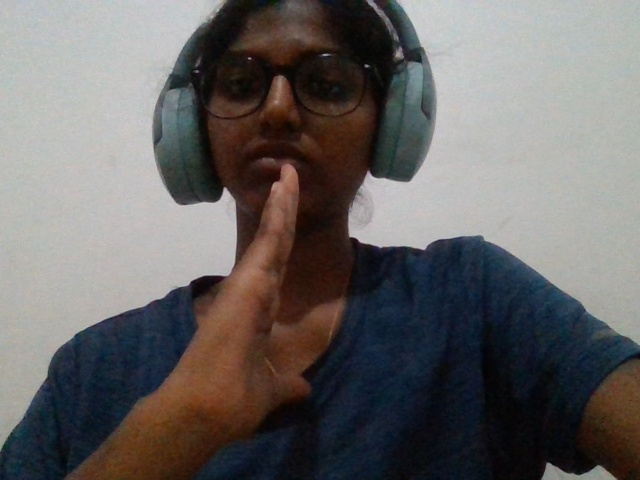Fine: (128, 142, 362, 441)
